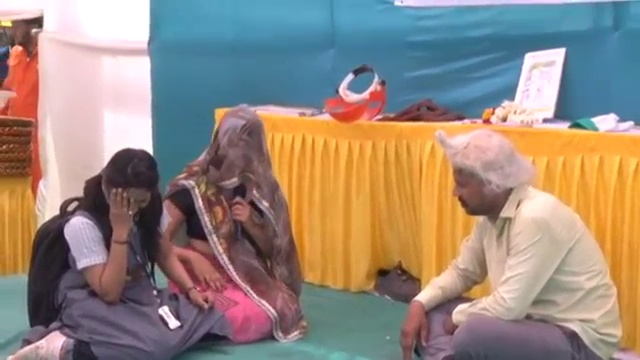helmet_off: (435, 133, 530, 221), (98, 147, 161, 217), (208, 110, 268, 182), (10, 14, 45, 48)
person: (400, 131, 624, 359), (15, 146, 224, 360), (152, 109, 306, 344), (0, 12, 45, 188)
